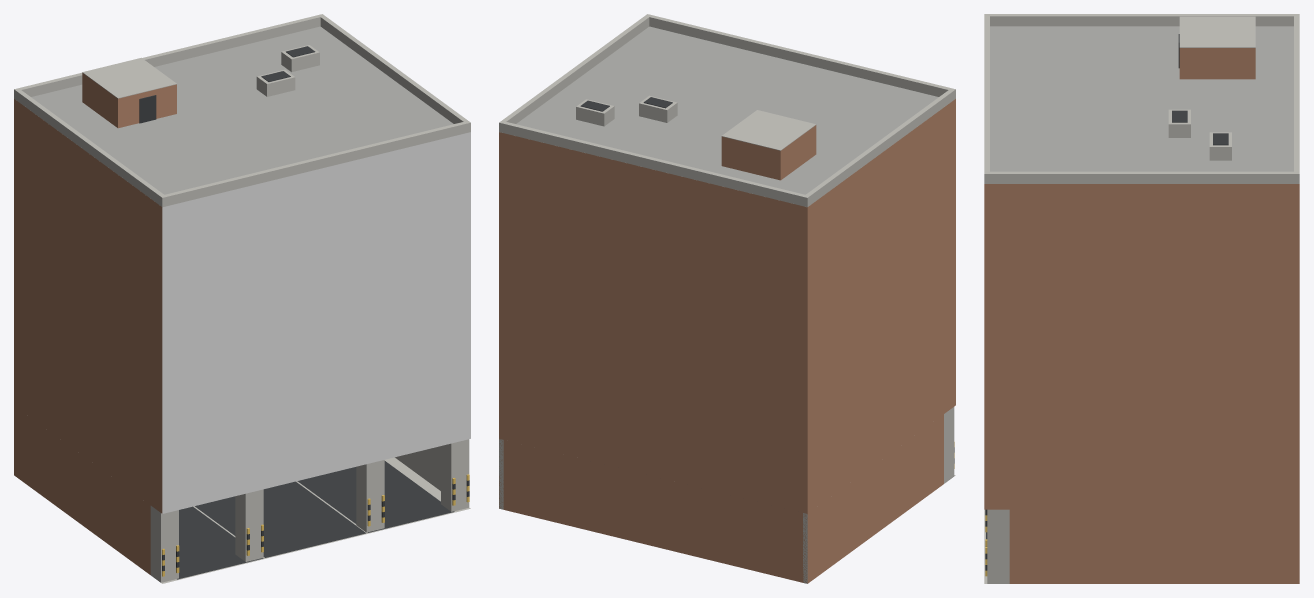
File: villa_r3.glb
3 renders of one model, left to right at view 1: azimuth 30°, elevation 25°; view 2: azimuth 150°, elevation 25°; view 3: azimuth 270°, elevation 25°, orthographic. The views are drawn at different scales.
Visible parts, largest first — view 1: villa_upper_floors, villa_roof_parapet_units, villa_pilotis_floor_markings, villa_pilotis_side_walls, villa_pilotis_columns; view 2: villa_upper_floors, villa_pilotis_side_walls, villa_roof_parapet_units, villa_pilotis_columns; view 3: villa_upper_floors, villa_pilotis_side_walls, villa_roof_parapet_units, villa_pilotis_columns.
Part boxes in pixels (x1=…): villa_upper_floors: x1=14, y1=26, x2=470, y2=513; villa_roof_parapet_units: x1=14, y1=14, x2=470, y2=207; villa_pilotis_floor_markings: x1=161, y1=457, x2=470, y2=583; villa_pilotis_side_walls: x1=14, y1=405, x2=440, y2=574; villa_pilotis_columns: x1=150, y1=439, x2=469, y2=582; villa_upper_floors: x1=499, y1=26, x2=955, y2=513; villa_pilotis_side_walls: x1=499, y1=414, x2=943, y2=583; villa_roof_parapet_units: x1=499, y1=14, x2=955, y2=207; villa_pilotis_columns: x1=944, y1=407, x2=954, y2=483; villa_upper_floors: x1=984, y1=26, x2=1299, y2=509; villa_pilotis_side_walls: x1=1009, y1=509, x2=1299, y2=583; villa_roof_parapet_units: x1=984, y1=14, x2=1299, y2=183; villa_pilotis_columns: x1=985, y1=509, x2=1009, y2=583.
Size of the model in its own units: 12 by 15.12 by 10.
